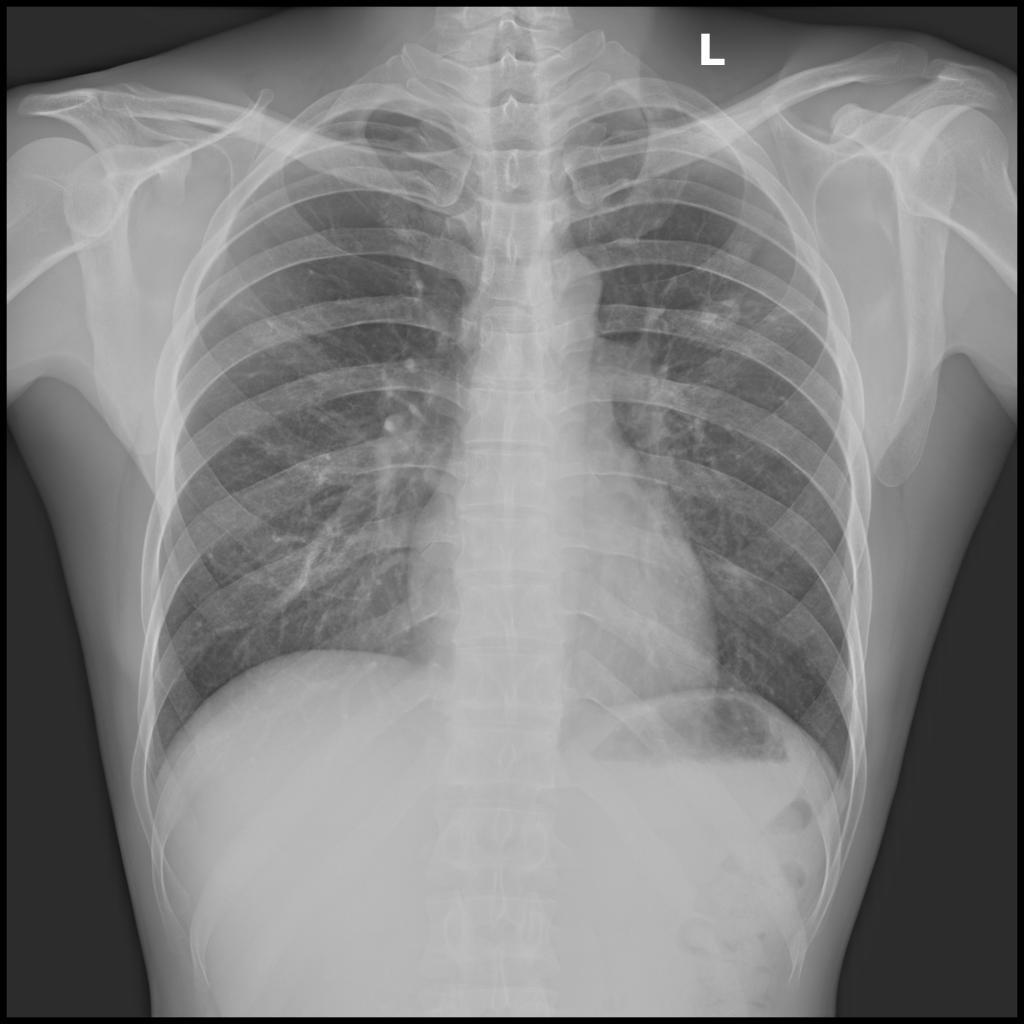Nodule: (704, 303, 743, 332)
